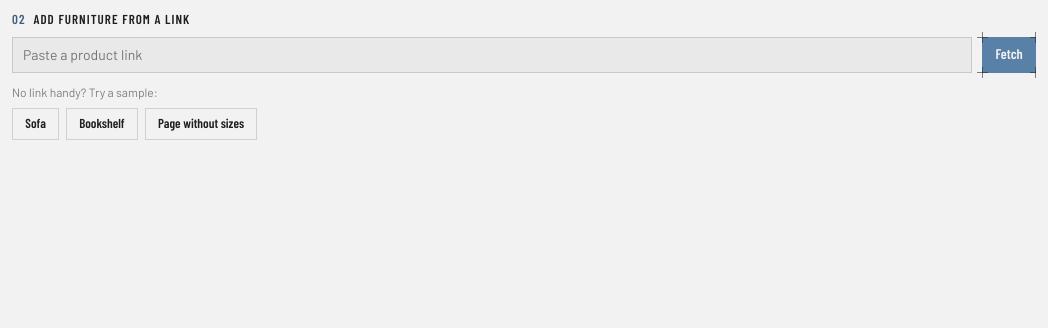
AddFurnitureSection › aborts a superseded lookup and ignores its late response
Type "https://a.example/sofa" into the field labelled "product link" at (492, 55), box left=12, top=37, right=972, bottom=73
Then press Enter
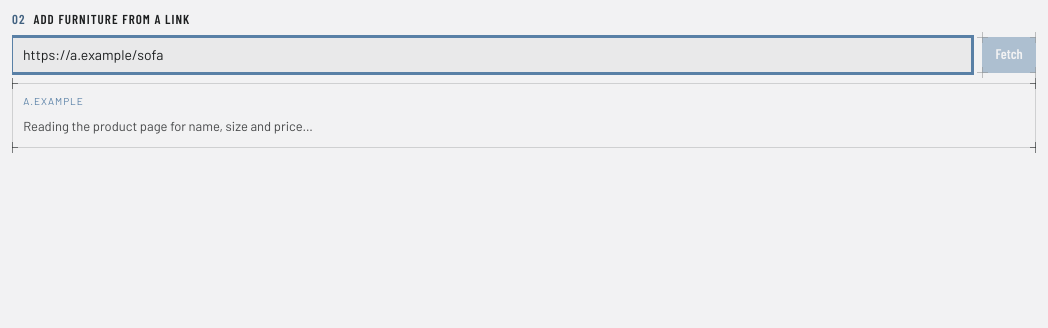
Replace the text in the field named "product link" with "https://b.example/shelf" at (492, 55), box left=12, top=37, right=972, bottom=73
Then press Enter
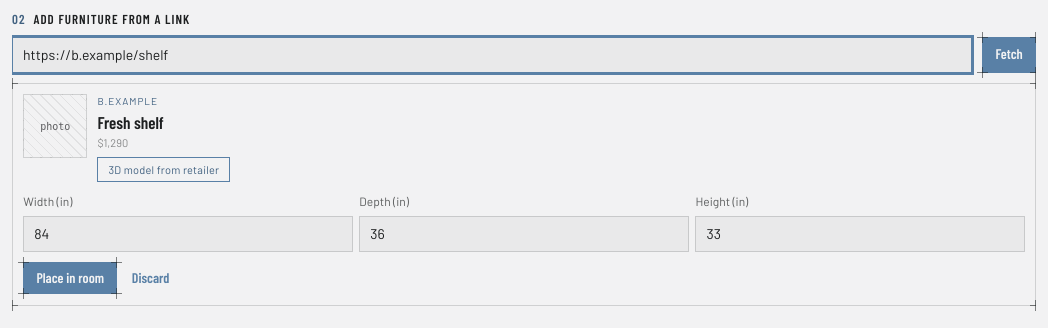
Expected: the text "Fresh shelf" is shown, left=97, top=112, right=164, bottom=132
